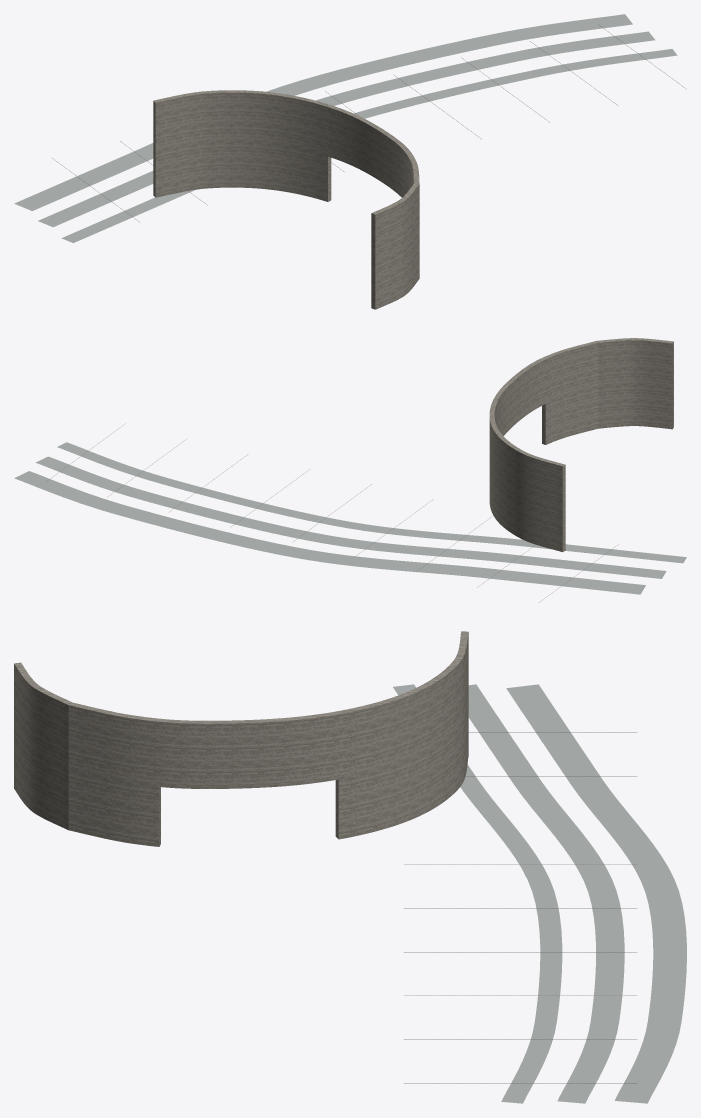
Rendered from SM_L1_Atrium_Solid_5cad7f5255_0.fbx.
The picture shows the model from 3 angles, top to bottom: view 1: azimuth 30°, elevation 25°; view 2: azimuth 150°, elevation 25°; view 3: azimuth 270°, elevation 25°; orthographic projection. The views are drawn at different scales.
Visible parts, largest first — view 1: SM_L1_Atrium_Solid_5cad7f5255_0; view 2: SM_L1_Atrium_Solid_5cad7f5255_0; view 3: SM_L1_Atrium_Solid_5cad7f5255_0.
Part boxes in pixels (<box>): SM_L1_Atrium_Solid_5cad7f5255_0: <box>14,14,685,309</box>; SM_L1_Atrium_Solid_5cad7f5255_0: <box>14,338,686,602</box>; SM_L1_Atrium_Solid_5cad7f5255_0: <box>14,631,686,1103</box>.
Size of the model in its own units: 38.2 by 25.91 by 5.32.
